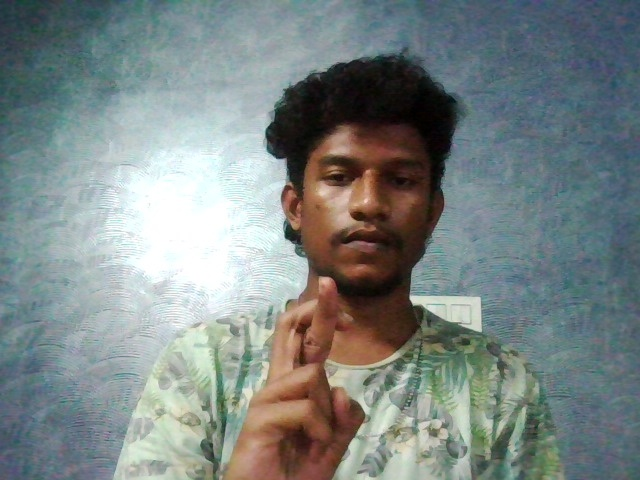hope: (219, 263, 388, 480)
